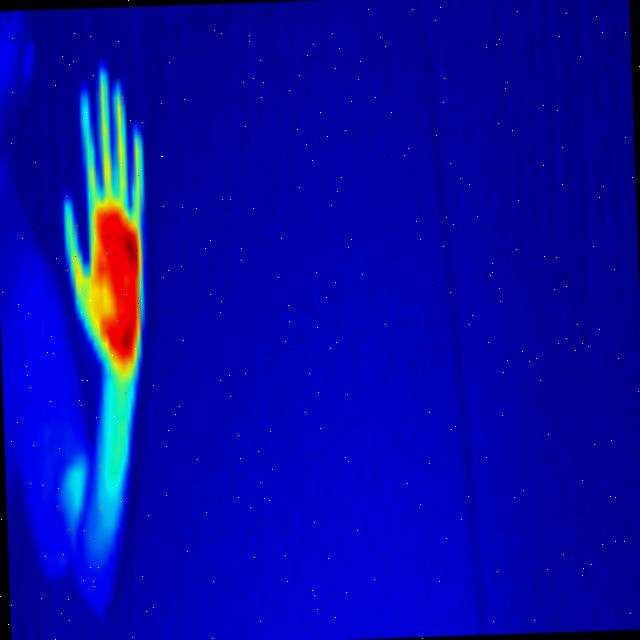hand: (50, 59, 158, 373)
